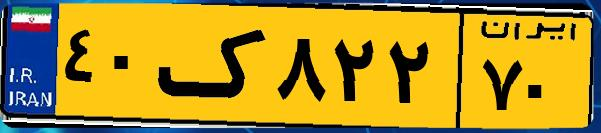0: (525, 38, 570, 115), (110, 28, 158, 98)
2: (385, 28, 445, 110), (330, 28, 385, 110)
4: (57, 26, 110, 100)
7: (475, 38, 525, 113)
8: (270, 28, 330, 110)
ک: (158, 12, 270, 120)
